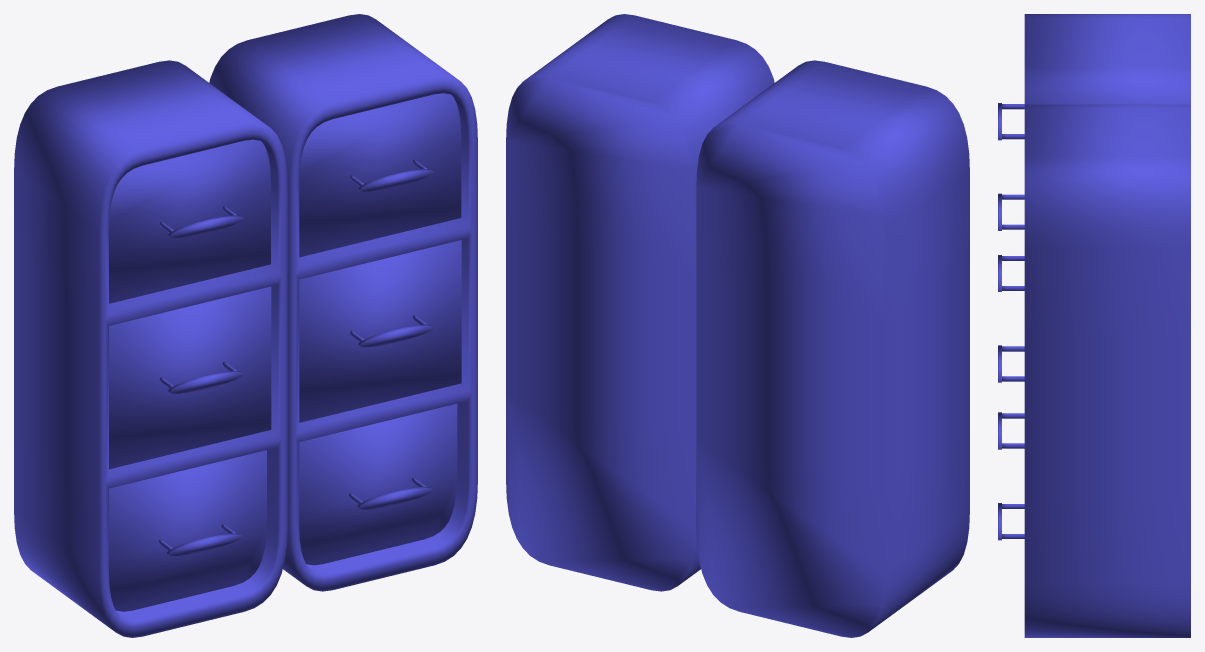
File: komad namestaja bozpomozi 1.fbx
The picture shows the model from 3 angles, left to right: view 1: azimuth 30°, elevation 25°; view 2: azimuth 150°, elevation 25°; view 3: azimuth 270°, elevation 25°; orthographic projection. The views are drawn at different scales.
Parts seen in each view (by area): view 1: Box052, Box056, Box054, Box058, Box057, Box053, Box059, Box055, Cylinder030, Cylinder032, Cylinder033, Cylinder031 (+2 smaller); view 2: Box052, Box056; view 3: Box056, Box052, Cylinder029, Cylinder031, Cylinder033, Cylinder034, Cylinder032, Cylinder030.
Part boxes in pixels (x1,y1,x2,y2): Box052: [14, 60, 287, 637]; Box056: [209, 14, 477, 591]; Box054: [109, 286, 271, 469]; Box058: [299, 240, 461, 422]; Box057: [299, 93, 461, 257]; Box053: [109, 139, 270, 303]; Box059: [299, 403, 457, 565]; Box055: [109, 450, 266, 611]; Cylinder030: [159, 361, 243, 393]; Cylinder032: [348, 477, 433, 509]; Cylinder033: [350, 315, 434, 347]; Cylinder031: [159, 206, 244, 237]; Box052: [696, 60, 969, 637]; Box056: [506, 14, 774, 591]; Box056: [1024, 104, 1190, 637]; Box052: [1024, 14, 1190, 104]; Cylinder029: [998, 412, 1024, 449]; Cylinder031: [998, 103, 1024, 140]; Cylinder033: [998, 345, 1024, 382]; Cylinder034: [998, 193, 1024, 230]; Cylinder032: [998, 503, 1024, 540]; Cylinder030: [998, 255, 1024, 291].
Size of the model in its own units: 61.63 by 75.82 by 27.84.
